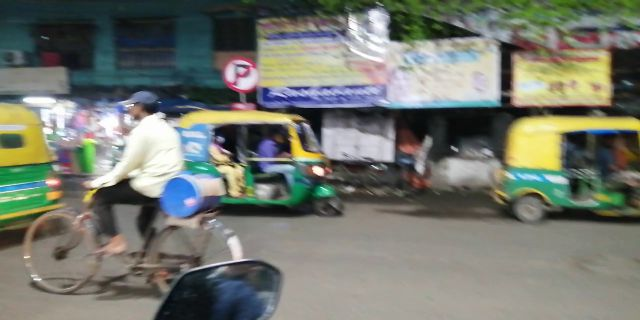Autorickshaw: (172, 109, 337, 216), (502, 116, 634, 234), (1, 101, 60, 240)
Cycle: (21, 94, 239, 293)
